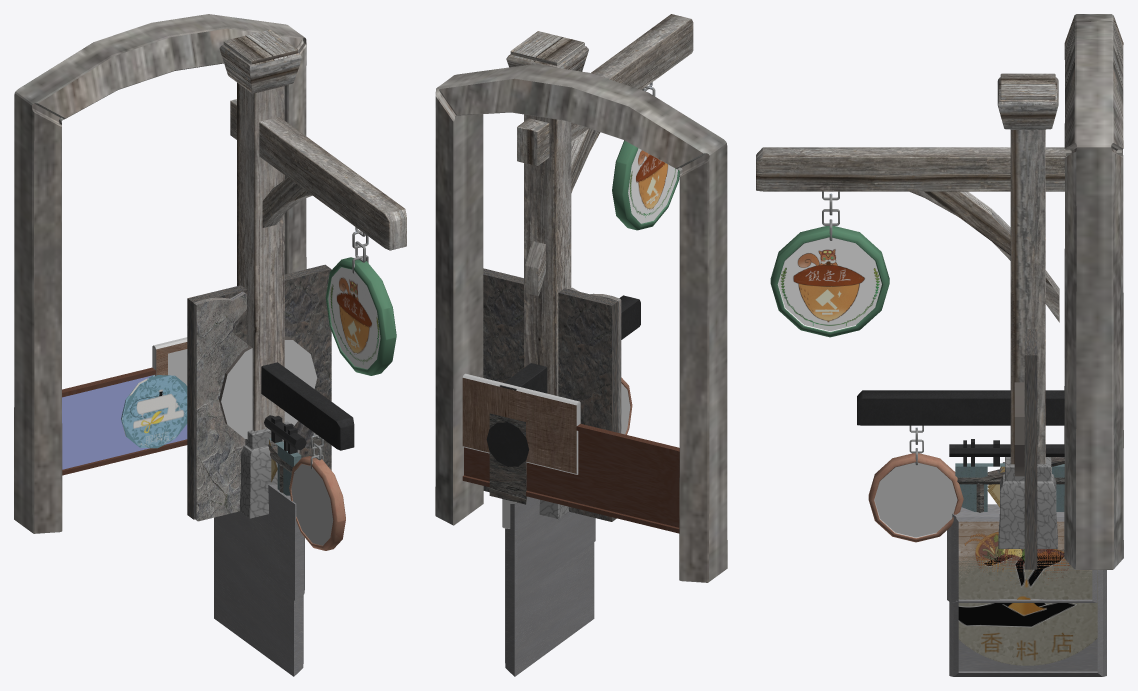
3 views of the same model, side by side, from view 1: azimuth 30°, elevation 25°; view 2: azimuth 150°, elevation 25°; view 3: azimuth 270°, elevation 25° (orthographic).
Visible parts, largest first — view 1: 門6外框.001, 鍛造屋招牌, 肉店招牌.001, 香料店招牌.001, 衣服店招牌.001, 家具店招牌, 蔬果店招牌, 米店招牌, 售; view 2: 門6外框.001, 鍛造屋招牌, 肉店招牌.001, 衣服店招牌.001, 香料店招牌.001, 售, 蔬果店招牌, 家具店招牌, 米店招牌; view 3: 鍛造屋招牌, 門6外框.001, 香料店招牌.001, 家具店招牌, 蔬果店招牌, 肉店招牌.001, 米店招牌.
Boxes of the visible parts, box(x1,y1,x2,y2) form: 門6外框.001: box(14, 14, 306, 533); 鍛造屋招牌: box(219, 29, 406, 518); 肉店招牌.001: box(187, 264, 331, 521); 香料店招牌.001: box(214, 441, 303, 676); 衣服店招牌.001: box(62, 367, 187, 475); 家具店招牌: box(261, 362, 354, 550); 蔬果店招牌: box(217, 484, 304, 600); 米店招牌: box(264, 415, 306, 495); 售: box(152, 337, 187, 385); 門6外框.001: box(435, 64, 727, 582); 鍛造屋招牌: box(506, 14, 693, 519); 肉店招牌.001: box(483, 268, 621, 521); 衣服店招牌.001: box(462, 423, 679, 533); 香料店招牌.001: box(489, 413, 594, 676); 售: box(462, 373, 580, 528); 蔬果店招牌: box(517, 497, 595, 597); 家具店招牌: box(500, 295, 640, 434); 米店招牌: box(486, 422, 528, 466); 鍛造屋招牌: box(756, 73, 1066, 548); 門6外框.001: box(1064, 14, 1123, 569); 香料店招牌.001: box(949, 457, 1106, 676); 家具店招牌: box(857, 390, 1064, 542); 蔬果店招牌: box(947, 504, 1097, 602); 肉店招牌.001: box(1014, 329, 1037, 569); 米店招牌: box(949, 439, 1064, 511).
Size of the model in its own units: 199 by 421 by 233.
